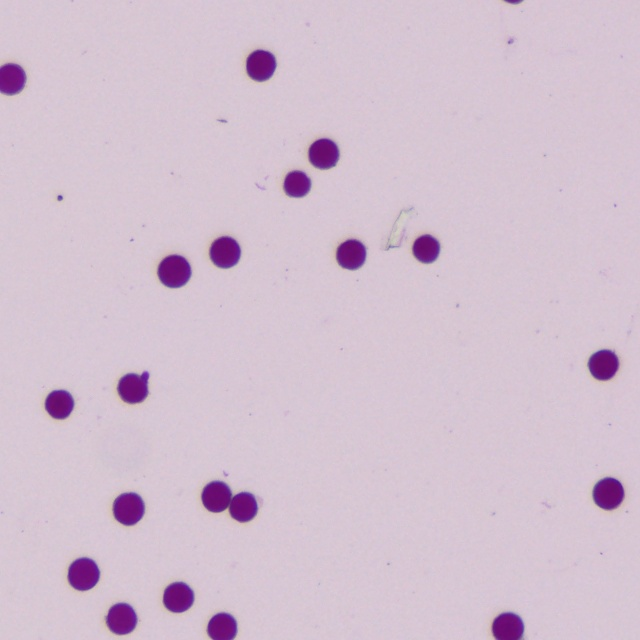viable: (158, 255, 190, 287), (114, 493, 144, 525), (69, 558, 99, 590), (594, 478, 624, 509), (118, 372, 148, 403), (211, 237, 240, 268), (247, 50, 276, 81), (107, 604, 136, 634), (164, 582, 193, 612), (589, 350, 618, 380), (309, 139, 338, 168), (203, 482, 231, 511), (337, 240, 365, 269), (230, 493, 257, 522), (493, 613, 523, 639), (45, 391, 73, 418), (208, 613, 236, 639), (1, 64, 25, 94), (413, 235, 439, 262), (284, 172, 310, 197)
